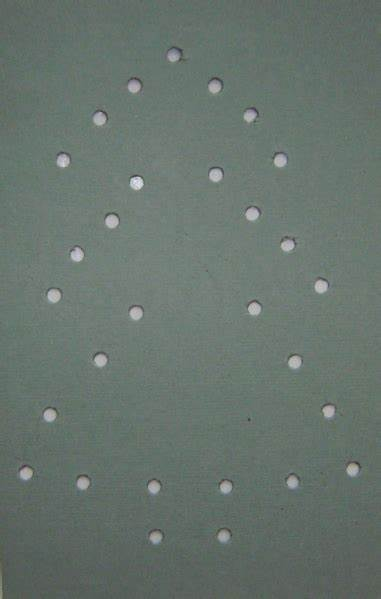hole: (67, 243, 88, 265), (278, 234, 300, 255), (205, 76, 227, 97), (16, 463, 37, 484), (270, 149, 291, 170), (44, 285, 64, 307), (242, 105, 262, 127), (144, 478, 167, 497), (283, 471, 303, 492), (73, 473, 94, 493), (91, 351, 111, 372), (164, 46, 185, 66), (41, 405, 60, 427), (285, 352, 305, 372), (245, 298, 265, 318), (206, 165, 226, 185), (124, 78, 144, 98), (215, 477, 236, 496), (215, 527, 235, 546), (312, 275, 331, 295), (244, 204, 264, 223), (91, 109, 111, 128), (146, 528, 167, 546), (345, 459, 363, 480), (127, 303, 145, 324), (104, 210, 122, 231), (54, 151, 73, 170), (320, 402, 337, 422), (128, 174, 145, 192)
